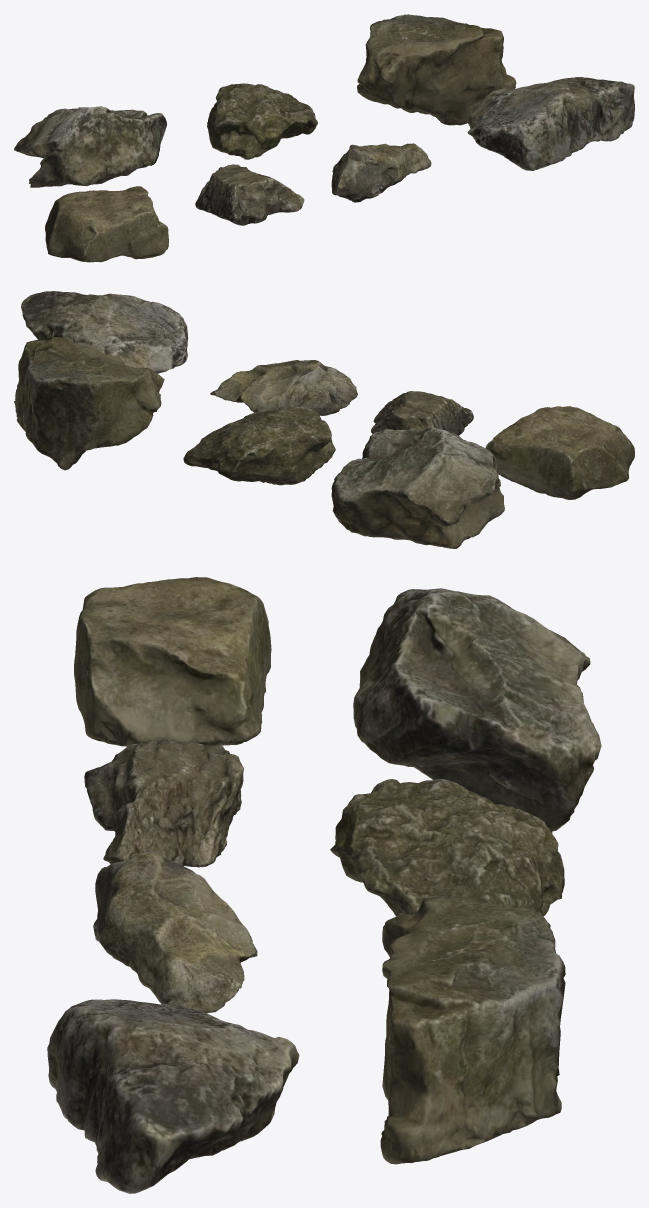
File: rock_moss_set_02.glb
3 views of the same model, one above another, from view 1: azimuth 30°, elevation 25°; view 2: azimuth 150°, elevation 25°; view 3: azimuth 270°, elevation 25° (orthographic). The views are drawn at different scales.
Visible parts, largest first — view 1: rock_moss_set_02_rock13, rock_moss_set_02_rock10, rock_moss_set_02_rock11, rock_moss_set_02_rock07, rock_moss_set_02_rock12, rock_moss_set_02_rock08, rock_moss_set_02_rock09; view 2: rock_moss_set_02_rock11, rock_moss_set_02_rock13, rock_moss_set_02_rock07, rock_moss_set_02_rock10, rock_moss_set_02_rock12, rock_moss_set_02_rock09, rock_moss_set_02_rock08; view 3: rock_moss_set_02_rock13, rock_moss_set_02_rock11, rock_moss_set_02_rock10, rock_moss_set_02_rock07, rock_moss_set_02_rock12, rock_moss_set_02_rock09, rock_moss_set_02_rock08.
Boxes of the visible parts, bbox=[...] form: rock_moss_set_02_rock13: bbox=[357, 14, 516, 125]; rock_moss_set_02_rock10: bbox=[467, 77, 634, 170]; rock_moss_set_02_rock11: bbox=[14, 106, 166, 187]; rock_moss_set_02_rock07: bbox=[45, 186, 168, 262]; rock_moss_set_02_rock12: bbox=[207, 83, 317, 159]; rock_moss_set_02_rock08: bbox=[195, 164, 304, 225]; rock_moss_set_02_rock09: bbox=[331, 143, 431, 202]; rock_moss_set_02_rock11: bbox=[331, 427, 504, 548]; rock_moss_set_02_rock13: bbox=[14, 337, 164, 470]; rock_moss_set_02_rock07: bbox=[485, 406, 634, 499]; rock_moss_set_02_rock10: bbox=[21, 291, 188, 373]; rock_moss_set_02_rock12: bbox=[183, 406, 335, 485]; rock_moss_set_02_rock09: bbox=[210, 360, 357, 415]; rock_moss_set_02_rock08: bbox=[371, 391, 473, 435]; rock_moss_set_02_rock13: bbox=[380, 895, 565, 1164]; rock_moss_set_02_rock11: bbox=[353, 588, 601, 833]; rock_moss_set_02_rock10: bbox=[47, 999, 299, 1193]; rock_moss_set_02_rock07: bbox=[74, 577, 271, 746]; rock_moss_set_02_rock12: bbox=[330, 779, 564, 927]; rock_moss_set_02_rock09: bbox=[93, 851, 257, 1013]; rock_moss_set_02_rock08: bbox=[84, 741, 243, 867].
Bounding box in the file's own units: 8.28 × 1.37 × 3.41.
1 material, 1 textured.
